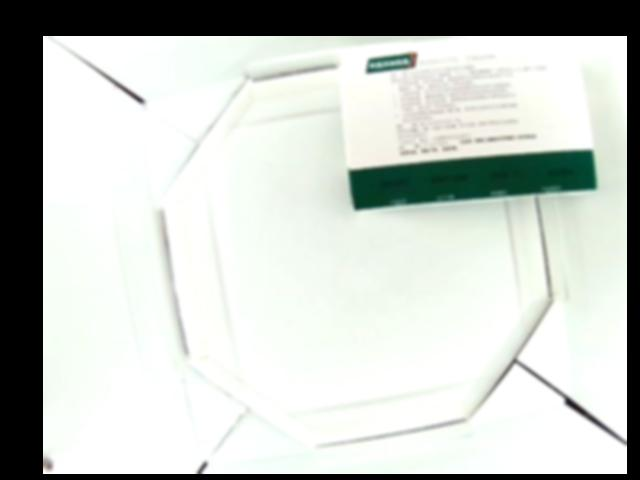Medicine: (336, 36, 598, 213)
